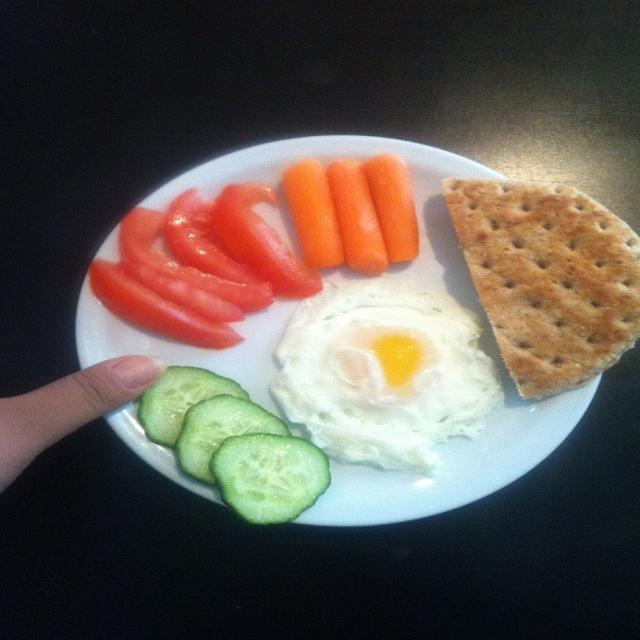carrot: (288, 146, 427, 278)
cucumber: (134, 363, 316, 524)
egg: (329, 305, 434, 433)
tomato: (94, 157, 270, 336)
waffle: (447, 173, 640, 391)
